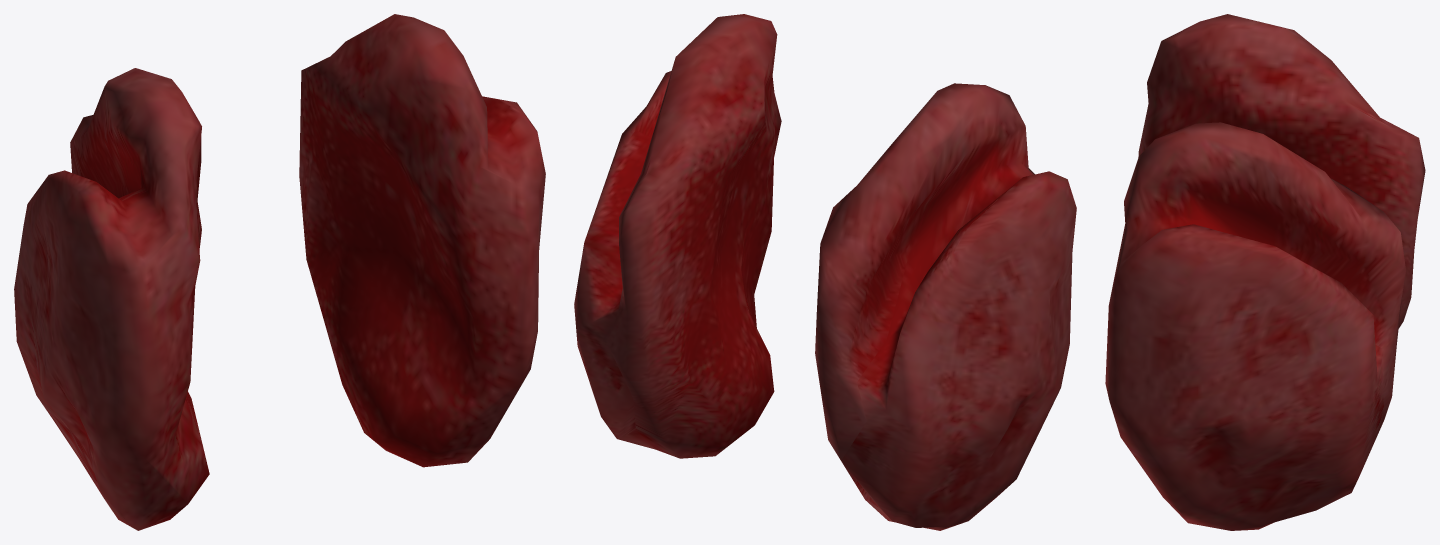
Rendered from Gutteral_Pouches.glb.
3 views of the same model, side by side, from view 1: azimuth 30°, elevation 25°; view 2: azimuth 150°, elevation 25°; view 3: azimuth 270°, elevation 25° (orthographic). The views are drawn at different scales.
Visible parts, largest first — view 1: gutteral_pouch.001; view 2: gutteral_pouch.001; view 3: gutteral_pouch.001.
Boxes of the visible parts, <box> form: gutteral_pouch.001: <box>14,14,545,530</box>; gutteral_pouch.001: <box>574,14,1076,530</box>; gutteral_pouch.001: <box>1105,14,1425,530</box>.
Size of the model in its own units: 0.1294 by 0.124 by 0.0909.
1 material, 1 textured.
